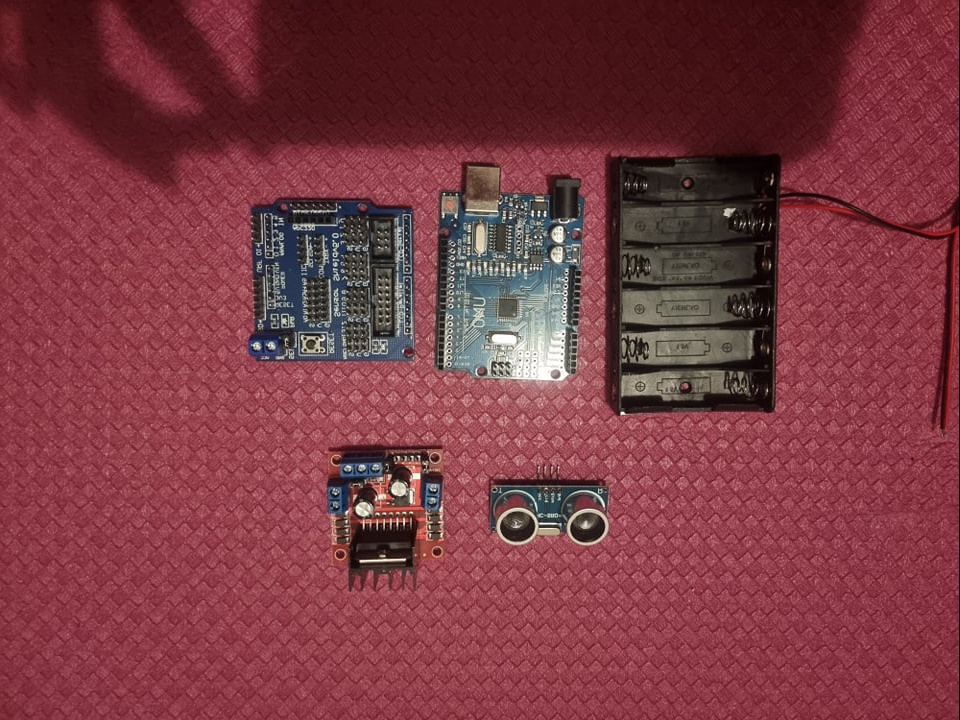5V EXPANSION: (252, 199, 416, 364)
BATTERY BOX: (610, 153, 779, 416)
MOTOR: (329, 450, 449, 591)
SENSOR: (487, 477, 613, 550)
UNO R3: (434, 160, 588, 384)
